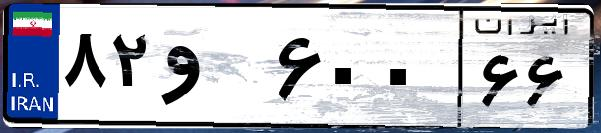0: (385, 28, 445, 110), (330, 28, 385, 110)
2: (110, 28, 158, 98)
6: (270, 28, 330, 110), (475, 38, 525, 113), (525, 38, 570, 115)
8: (57, 26, 110, 100)
و: (158, 20, 270, 120)
